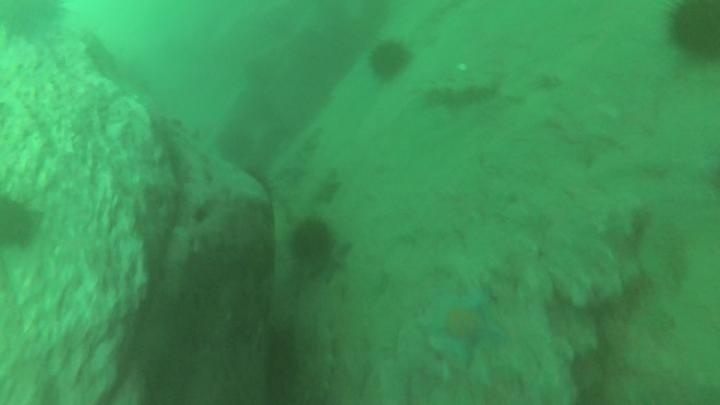echinus: (663, 1, 720, 66), (0, 1, 67, 44), (287, 217, 337, 271), (0, 191, 41, 252), (366, 37, 414, 85)
holothurian: (420, 76, 501, 111)
starfish: (416, 285, 506, 370)
